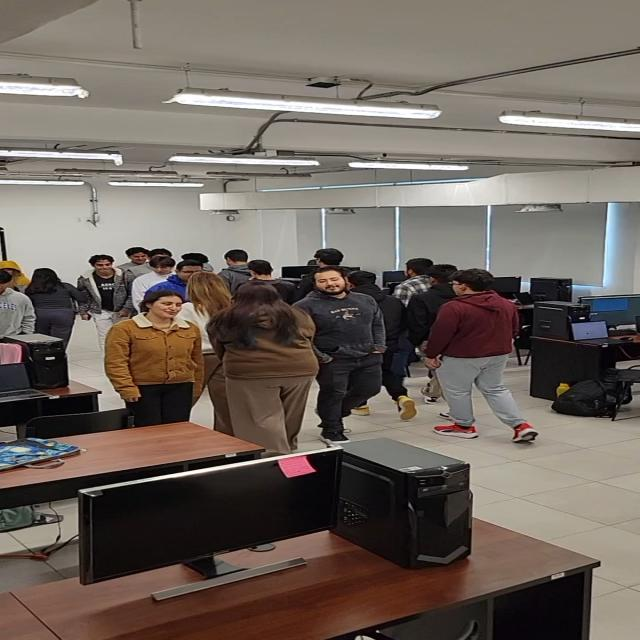Persona: (424, 264, 535, 446), (207, 282, 312, 457), (96, 285, 200, 429), (306, 268, 378, 441), (24, 264, 76, 358), (78, 252, 127, 330)
